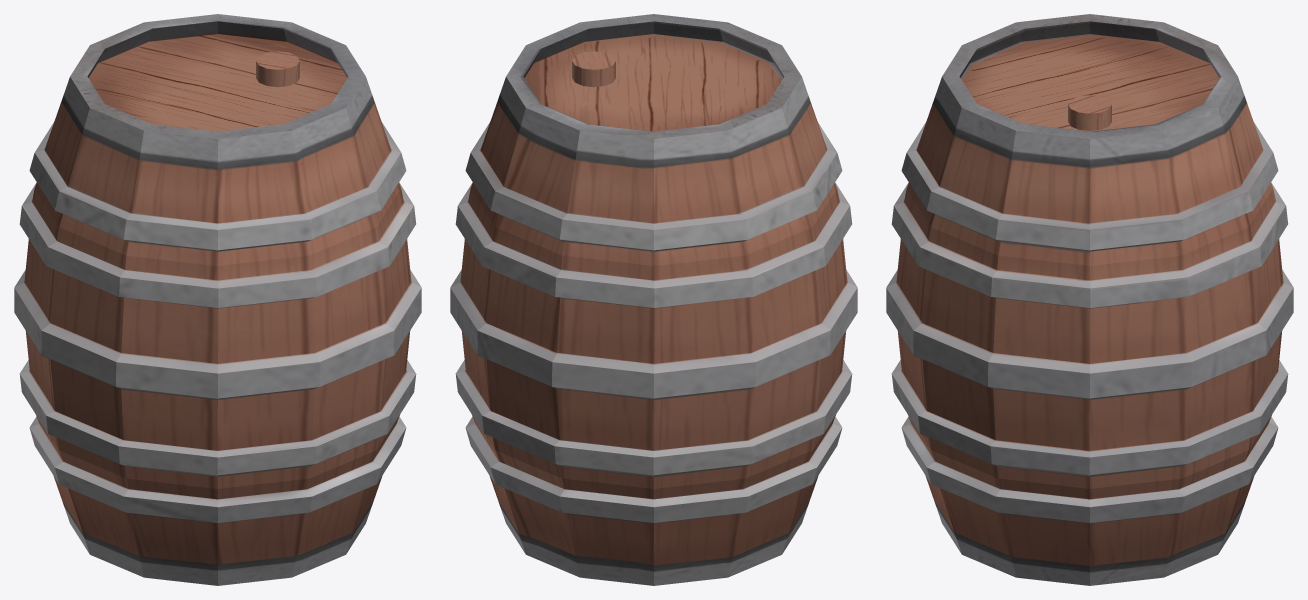
The model's file is Barrel.fbx.
3 renders of one model, left to right at view 1: azimuth 30°, elevation 25°; view 2: azimuth 150°, elevation 25°; view 3: azimuth 270°, elevation 25°, orthographic.
Parts seen in each view (by area): view 1: Barrel_01; view 2: Barrel_01; view 3: Barrel_01.
Part boxes in pixels (x1=…): Barrel_01: x1=14, y1=14, x2=421, y2=585; Barrel_01: x1=450, y1=14, x2=857, y2=585; Barrel_01: x1=886, y1=14, x2=1293, y2=585.
Size of the model in its own units: 41.31 by 50.14 by 41.31.
